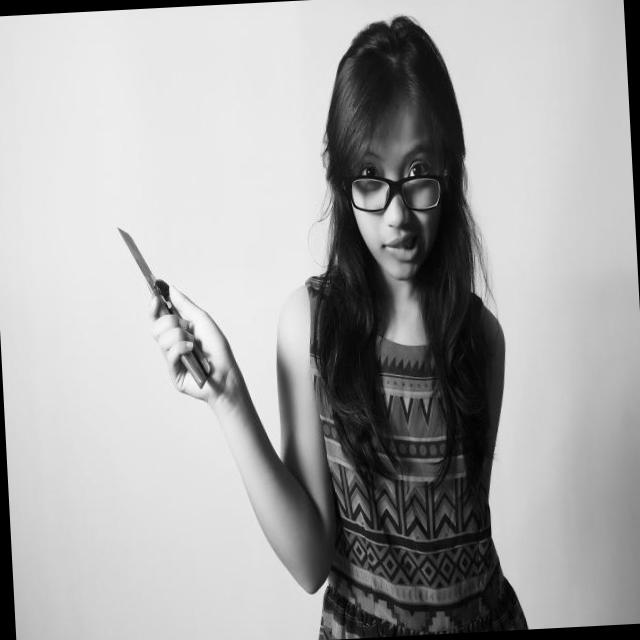Knife: (118, 228, 158, 295)
